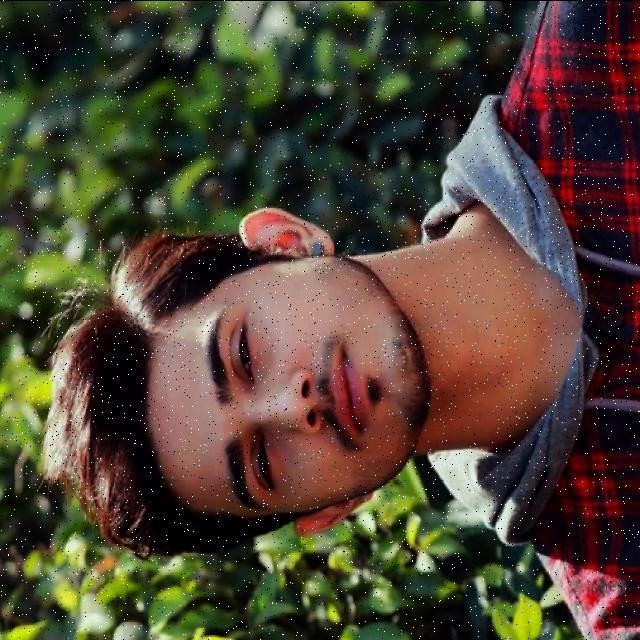face_no_mask: (166, 205, 433, 541)
